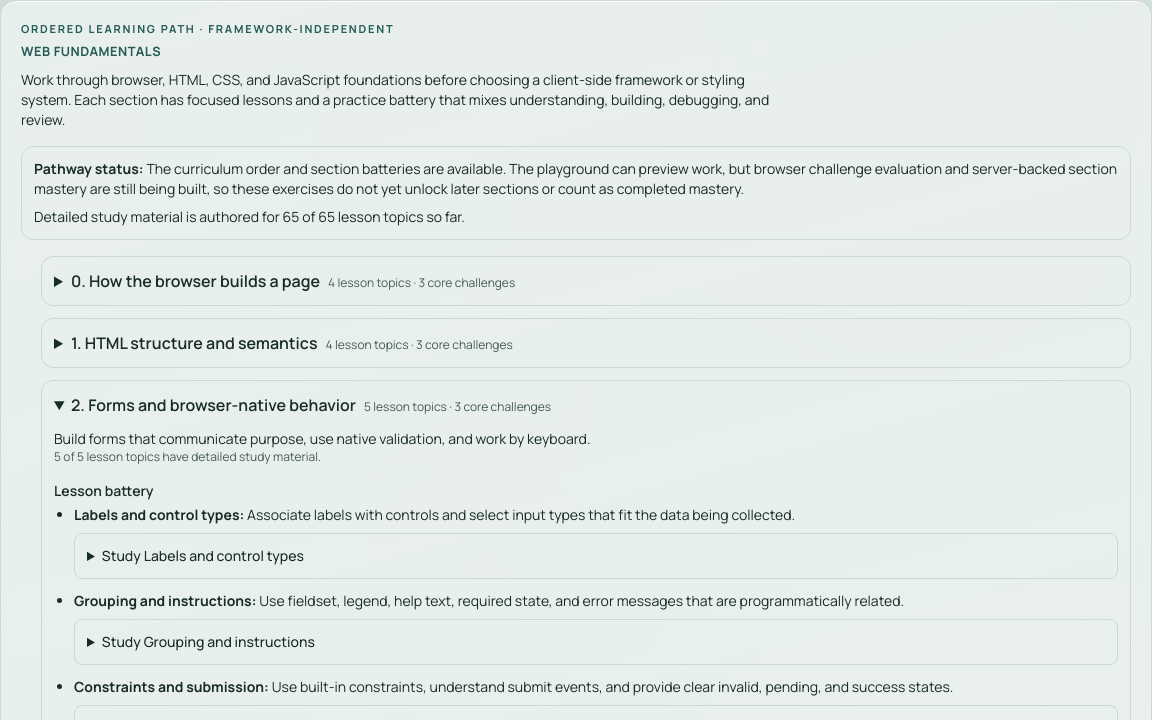
Scenario: renders browser-native form lessons in the accessible lesson format
expect the text "5 of 5 lesson topics have detailed study material." is shown: met, box top-left (54, 448), bottom-right (321, 465)
Click the heading "Study Labels and control types": (203, 556) top-left (102, 546), bottom-right (304, 565)
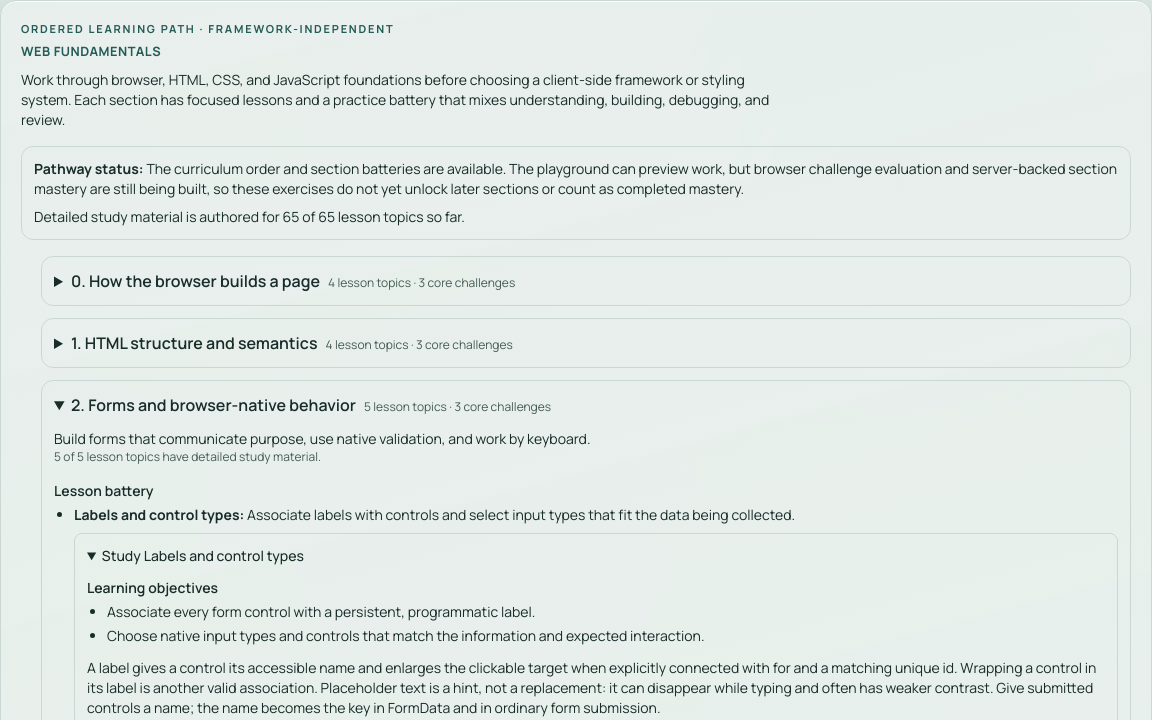
expect the text "A label gives a control its accessible name" is shown: met, box top-left (87, 658), bottom-right (1096, 717)
